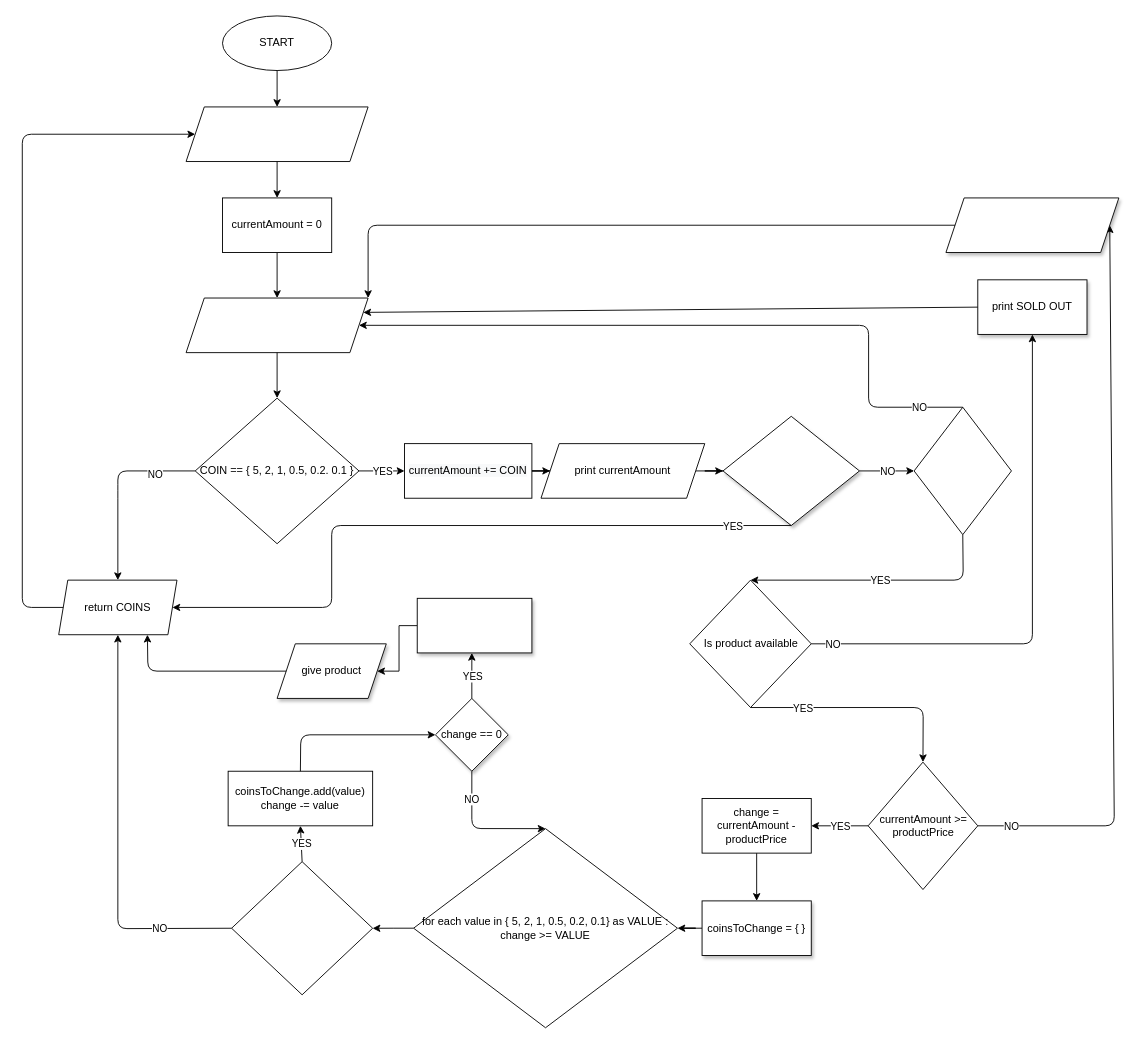
This 1140x1044 diagram has some shape labels left out. Each missing label, with the centre of its shape:
"add COINS to machine budget" belongs at pixel 475 626.
"get COIN" belongs at pixel 276 325.
"has user clicked return coins button" belongs at pixel 791 472.
"Is coin with that VALUE in machine" belongs at pixel 302 928.
"Is product selected" belongs at pixel 962 470.
"print INSERT COIN" belongs at pixel 276 134.
"print PRICE: productPrice" belongs at pixel 1032 226.
